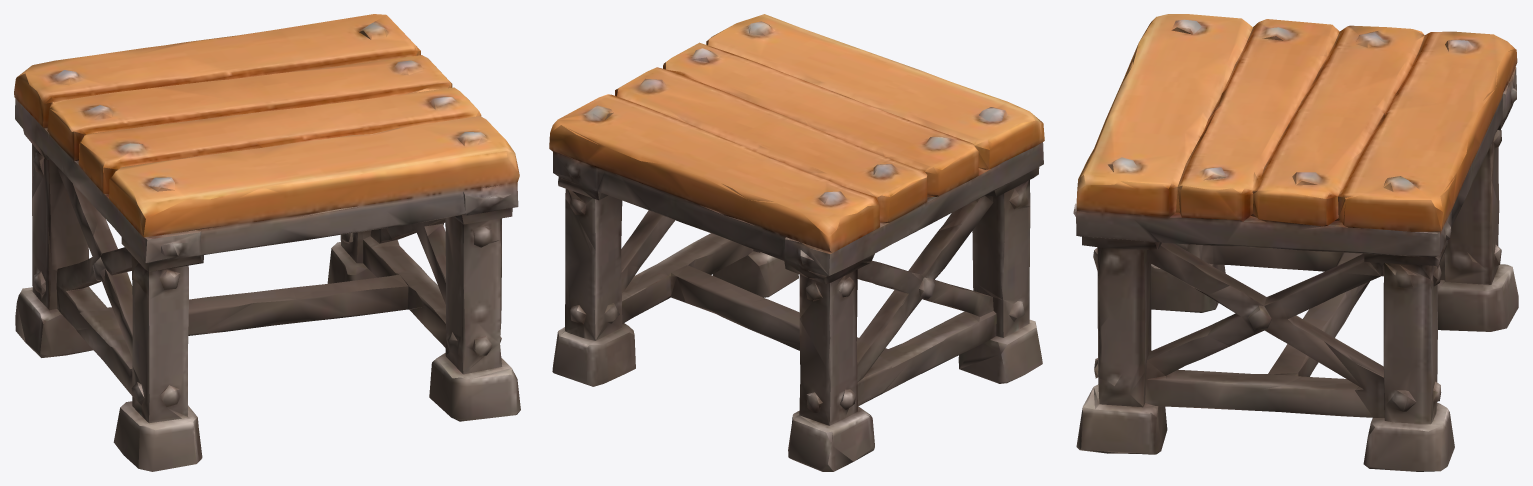
The model's file is table12.glb.
3 views of the same model, side by side, from view 1: azimuth 30°, elevation 25°; view 2: azimuth 150°, elevation 25°; view 3: azimuth 270°, elevation 25° (orthographic). The views are drawn at different scales.
Bounding box in the file's own units: 0.2169 × 0.1461 × 0.2112.
Materials: 1 (1 with a texture image).
